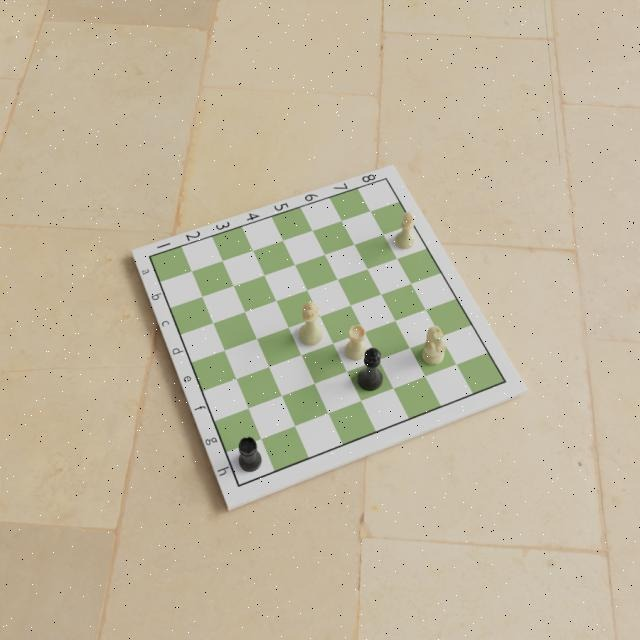black-king: (355, 346, 385, 393)
black-rook: (237, 436, 263, 472)
white-bishop: (393, 210, 416, 250)
white-king: (298, 300, 322, 348)
white-knight: (420, 324, 447, 368)
white-rook: (342, 323, 368, 361)
